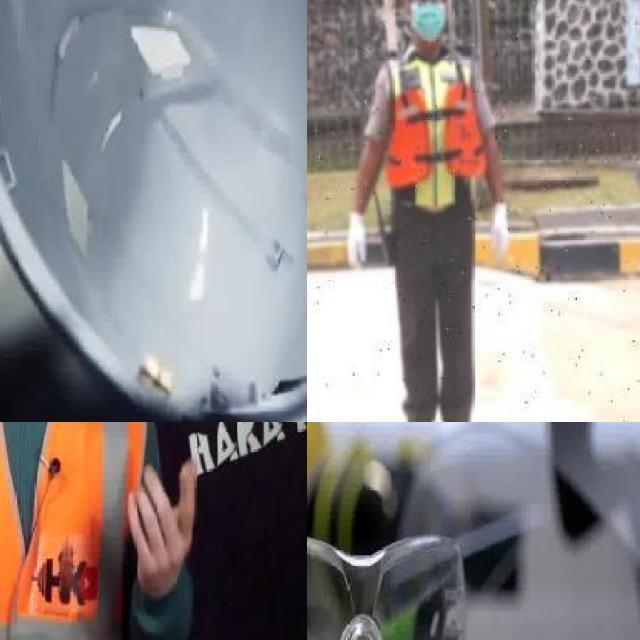apron: (488, 200, 512, 264), (346, 210, 369, 274)
